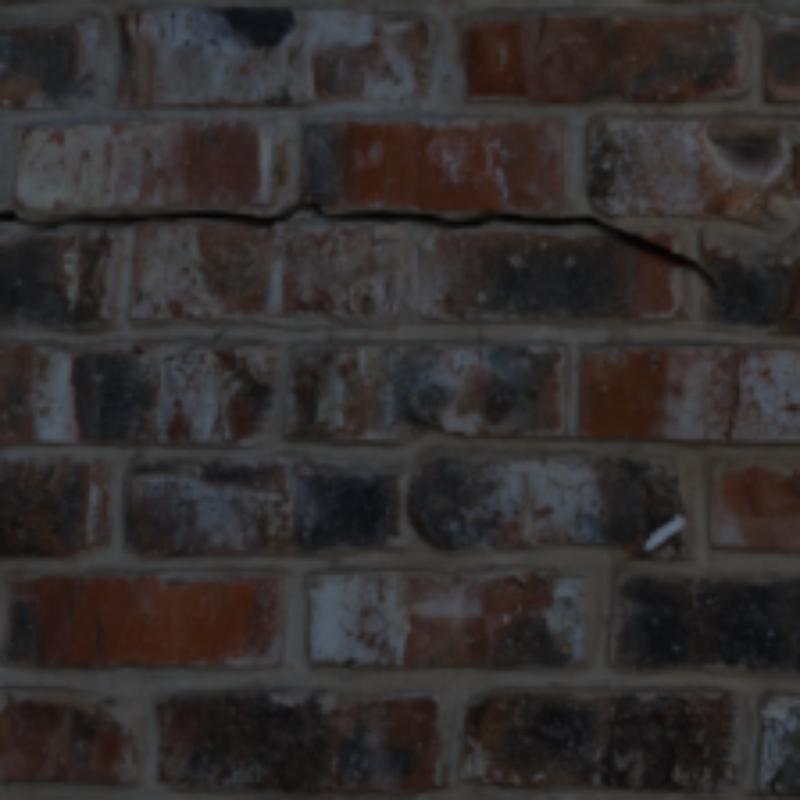pothole: (0, 200, 718, 289), (721, 346, 746, 443)
